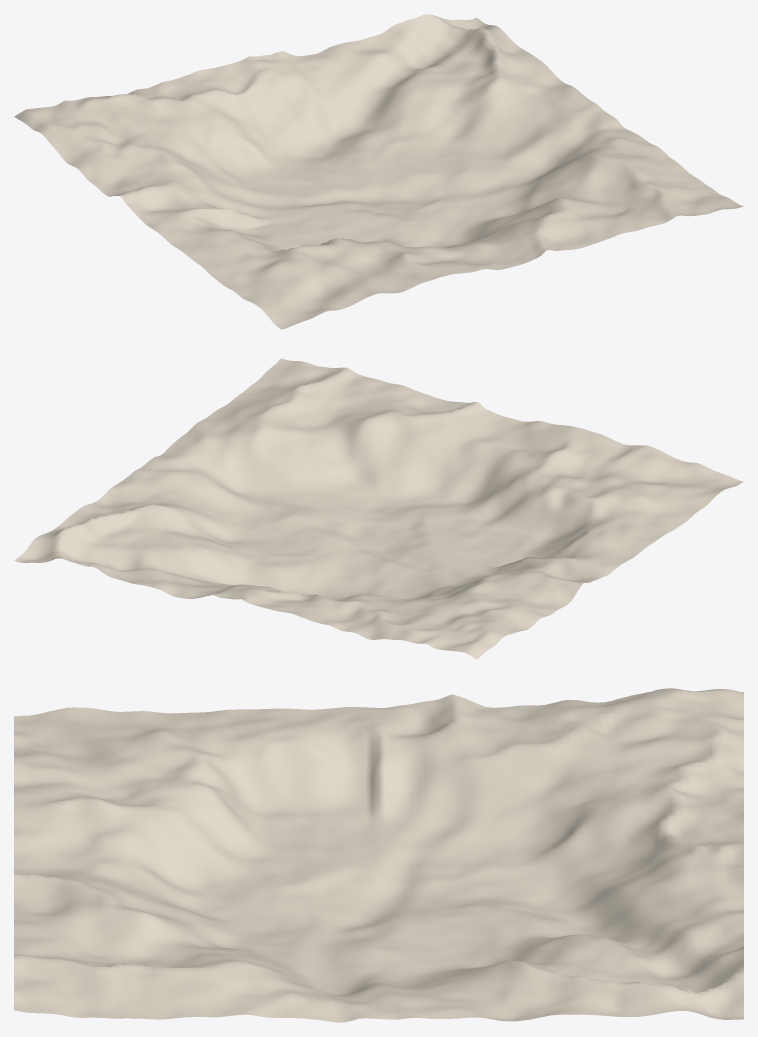
File: terrain.glb
3 views of the same model, one above another, from view 1: azimuth 30°, elevation 25°; view 2: azimuth 150°, elevation 25°; view 3: azimuth 270°, elevation 25° (orthographic). The views are drawn at different scales.
Visible parts, largest first — view 1: Terrain; view 2: Terrain; view 3: Terrain.
Part boxes in pixels (left/top/right/bottom): Terrain: left=14, top=14, right=743, bottom=329; Terrain: left=14, top=358, right=743, bottom=659; Terrain: left=14, top=688, right=743, bottom=1022.
Bounding box in the file's own units: 46 × 4.78 × 46.
